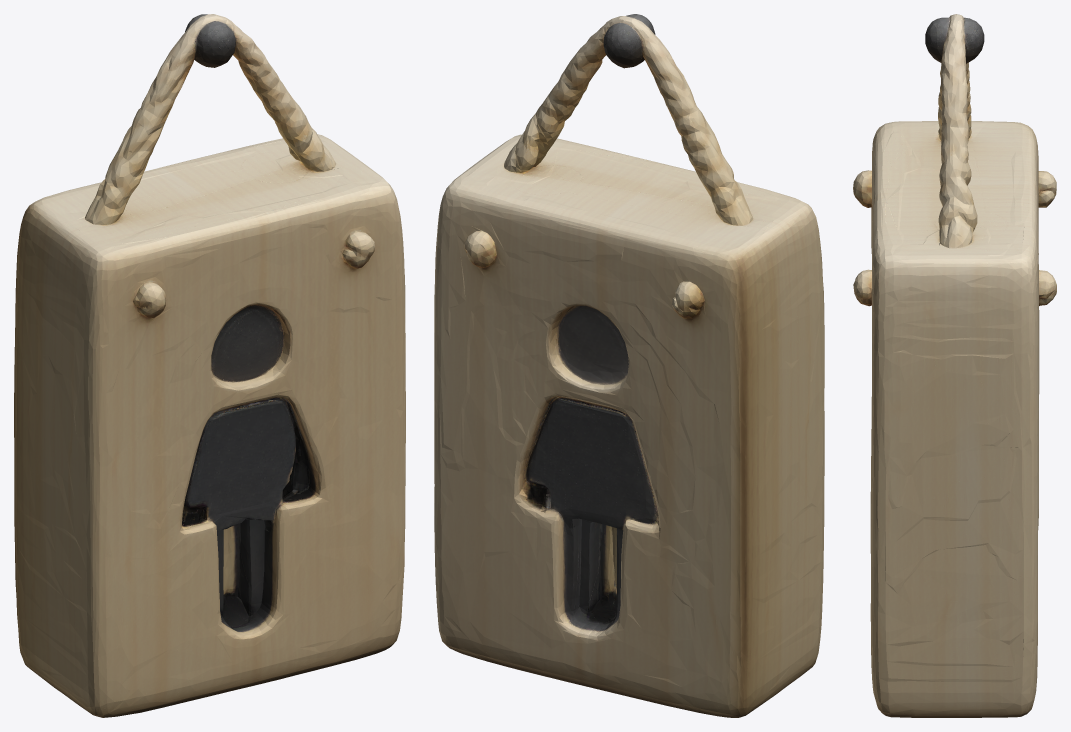
Rendered from s2_hr_room_sign.glb.
3 renders of one model, left to right at view 1: azimuth 30°, elevation 25°; view 2: azimuth 150°, elevation 25°; view 3: azimuth 270°, elevation 25°, orthographic.
Visible parts, largest first — view 1: world; view 2: world; view 3: world.
Boxes of the visible parts, x1=… form: world: x1=14, y1=14, x2=405, y2=717; world: x1=434, y1=14, x2=824, y2=717; world: x1=853, y1=14, x2=1056, y2=717.
Bounding box in the file's own units: 0.5165 × 1 × 0.2912.
Materials: 1 (1 with a texture image).
